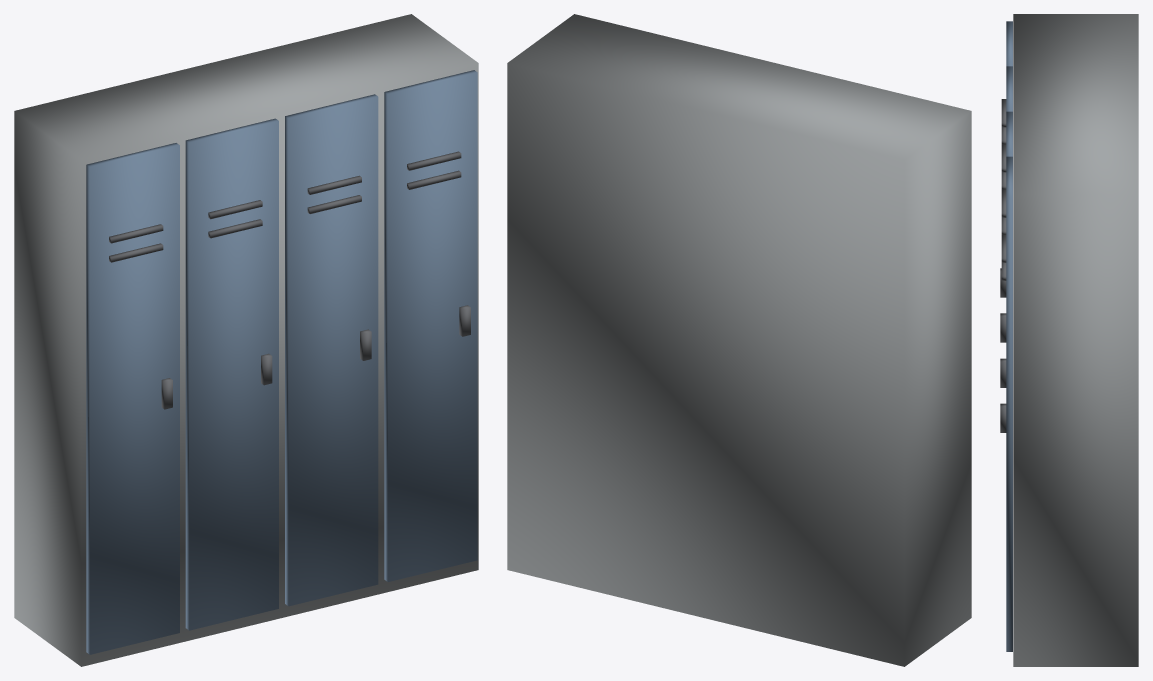
File: evidence_locker__compact.glb
3 renders of one model, left to right at view 1: azimuth 30°, elevation 25°; view 2: azimuth 150°, elevation 25°; view 3: azimuth 270°, elevation 25°, orthographic. The views are drawn at different scales.
Parts seen in each view (by area): view 1: world; view 2: world; view 3: world.
Boxes of the visible parts, <box> form: world: <box>14,14,478,666</box>; world: <box>507,14,971,666</box>; world: <box>1000,14,1138,666</box>.
Size of the model in its own units: 1.41 by 1.72 by 0.4558.
